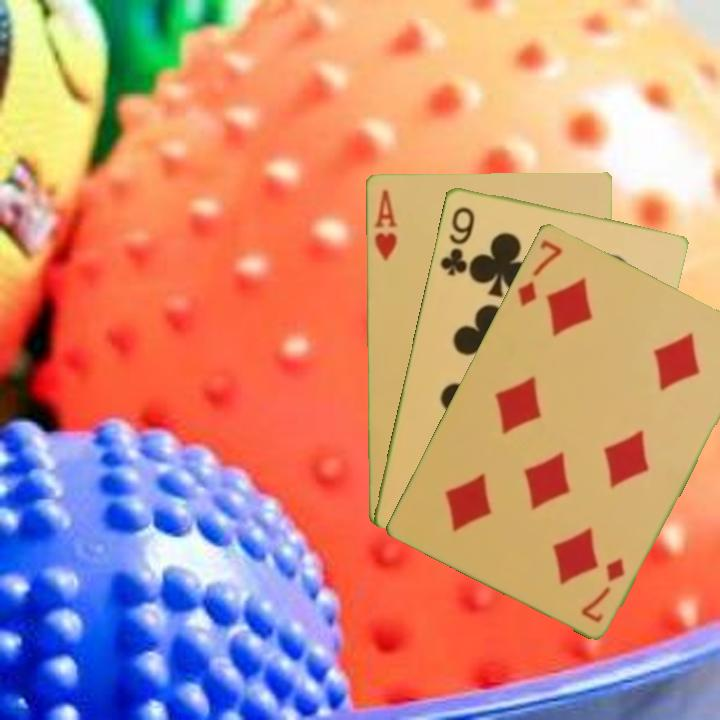7d: (513, 235, 565, 309), (577, 554, 628, 625)
9c: (436, 202, 477, 278)
Ah: (370, 186, 400, 264)
